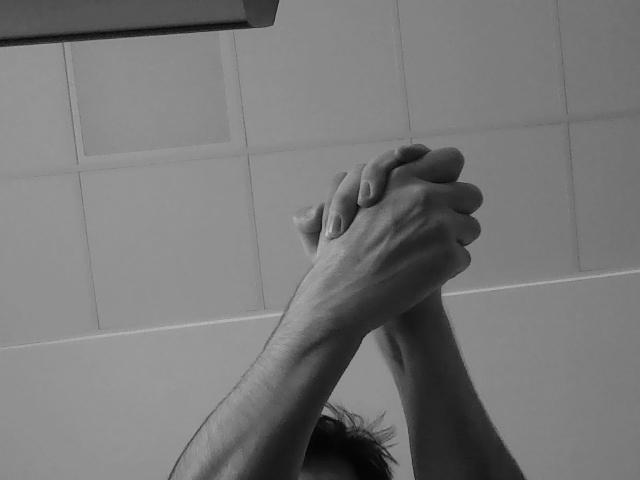friend: (296, 140, 487, 326)
